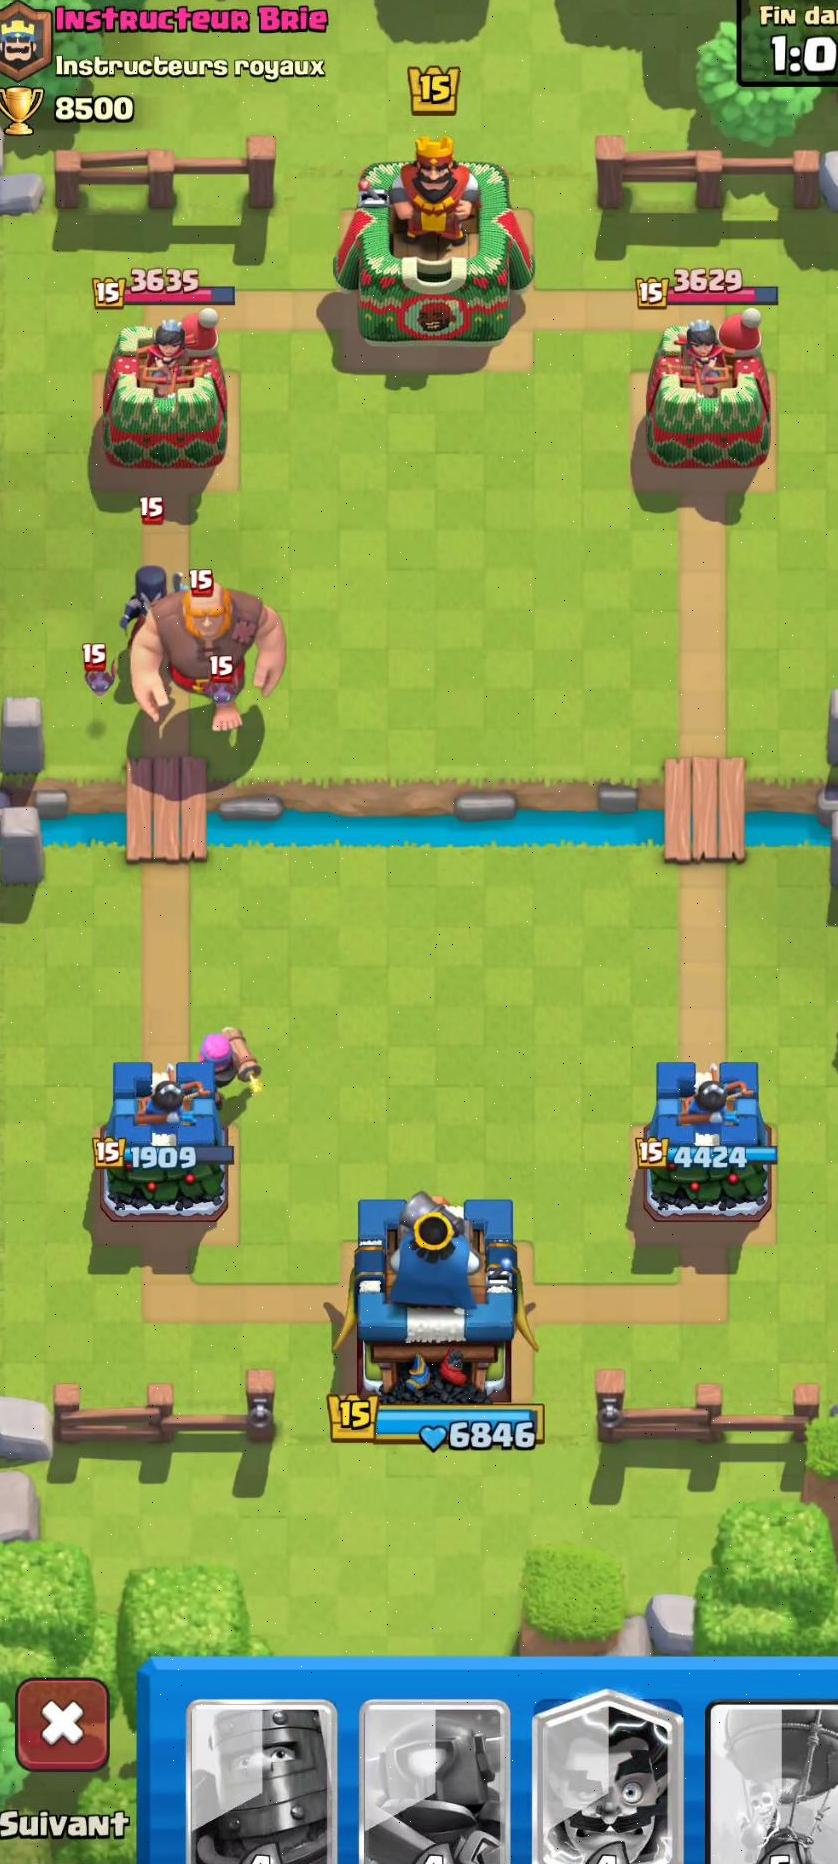enemy_bats: (70, 643, 128, 702), (199, 664, 248, 727)
enemy_giant: (130, 572, 293, 736)
enemy_night_witch: (110, 497, 193, 632)
player_firecraker: (196, 1021, 266, 1106)
